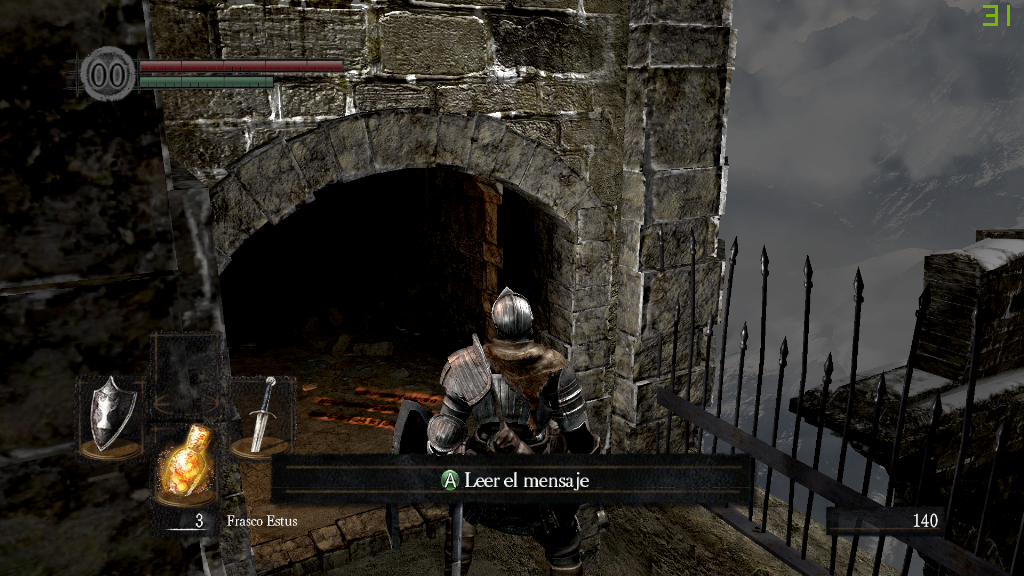dialogBox: (271, 455, 756, 508)
health: (138, 58, 343, 71)
humanity: (80, 45, 136, 102)
player: (386, 286, 612, 576)
souls: (825, 506, 945, 536)
stamina: (138, 74, 274, 88)
